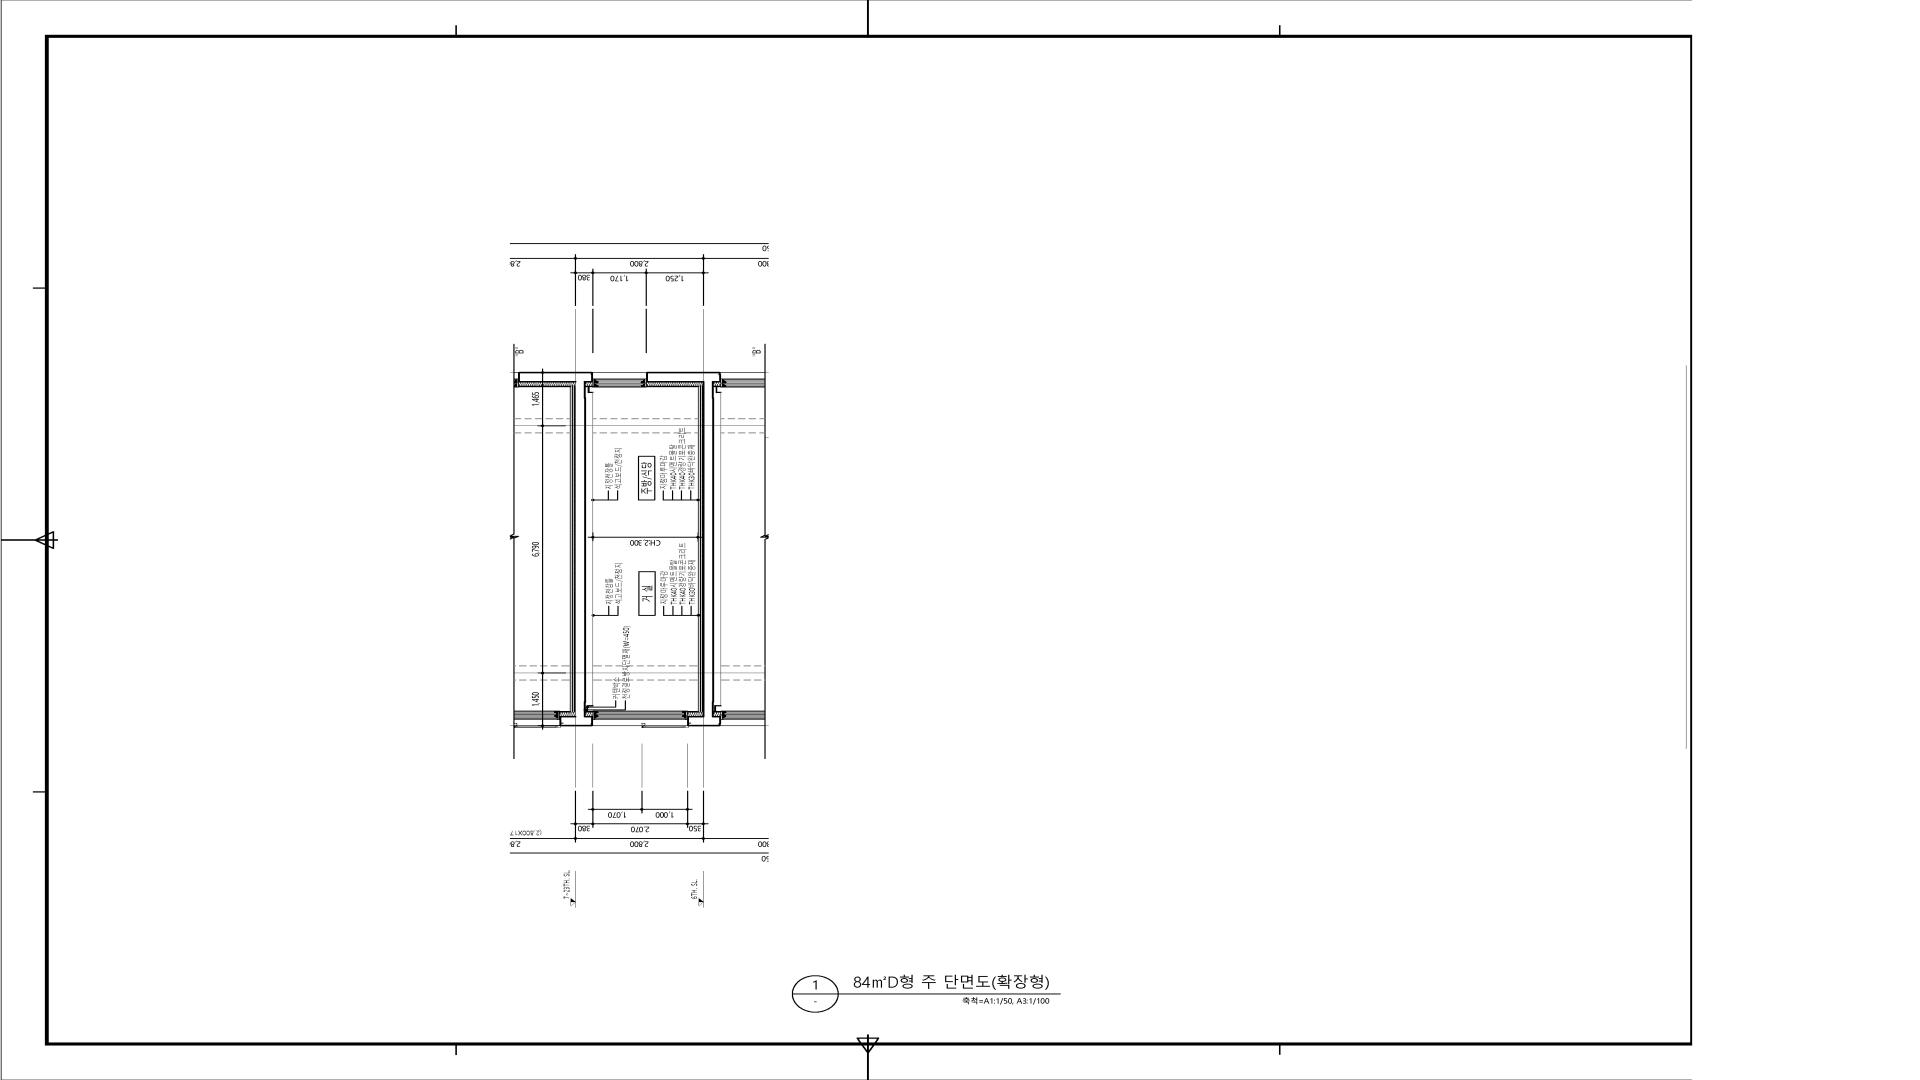background: (1, 0, 1920, 1080)
wall: (646, 372, 714, 726), (574, 372, 593, 726)
window: (593, 711, 688, 726), (593, 372, 646, 388)
